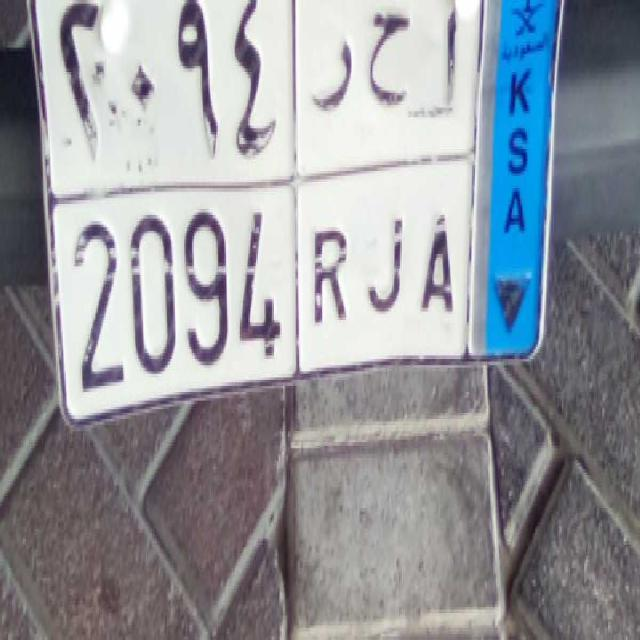license_plate: (62, 171, 466, 415)
